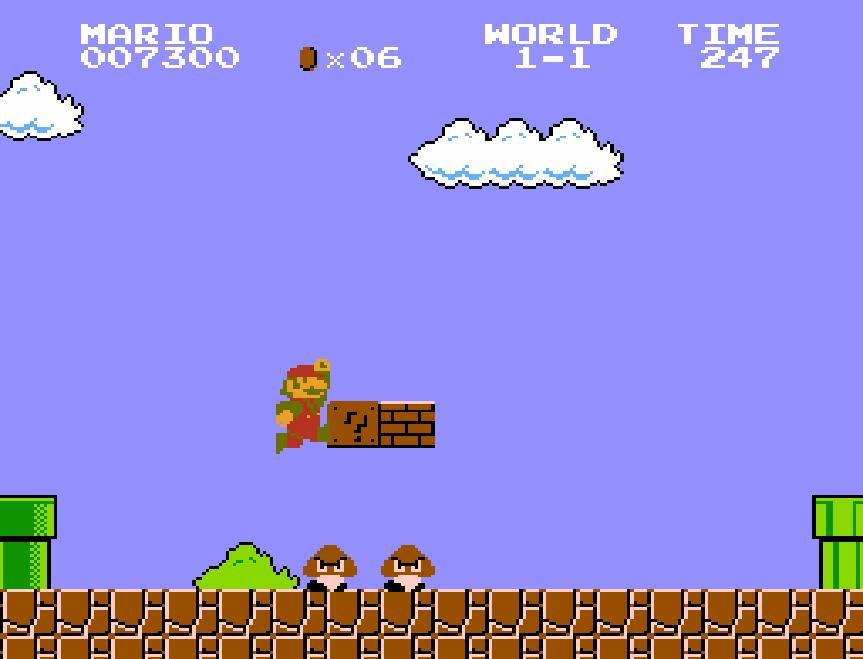big_mario: (274, 357, 332, 456)
